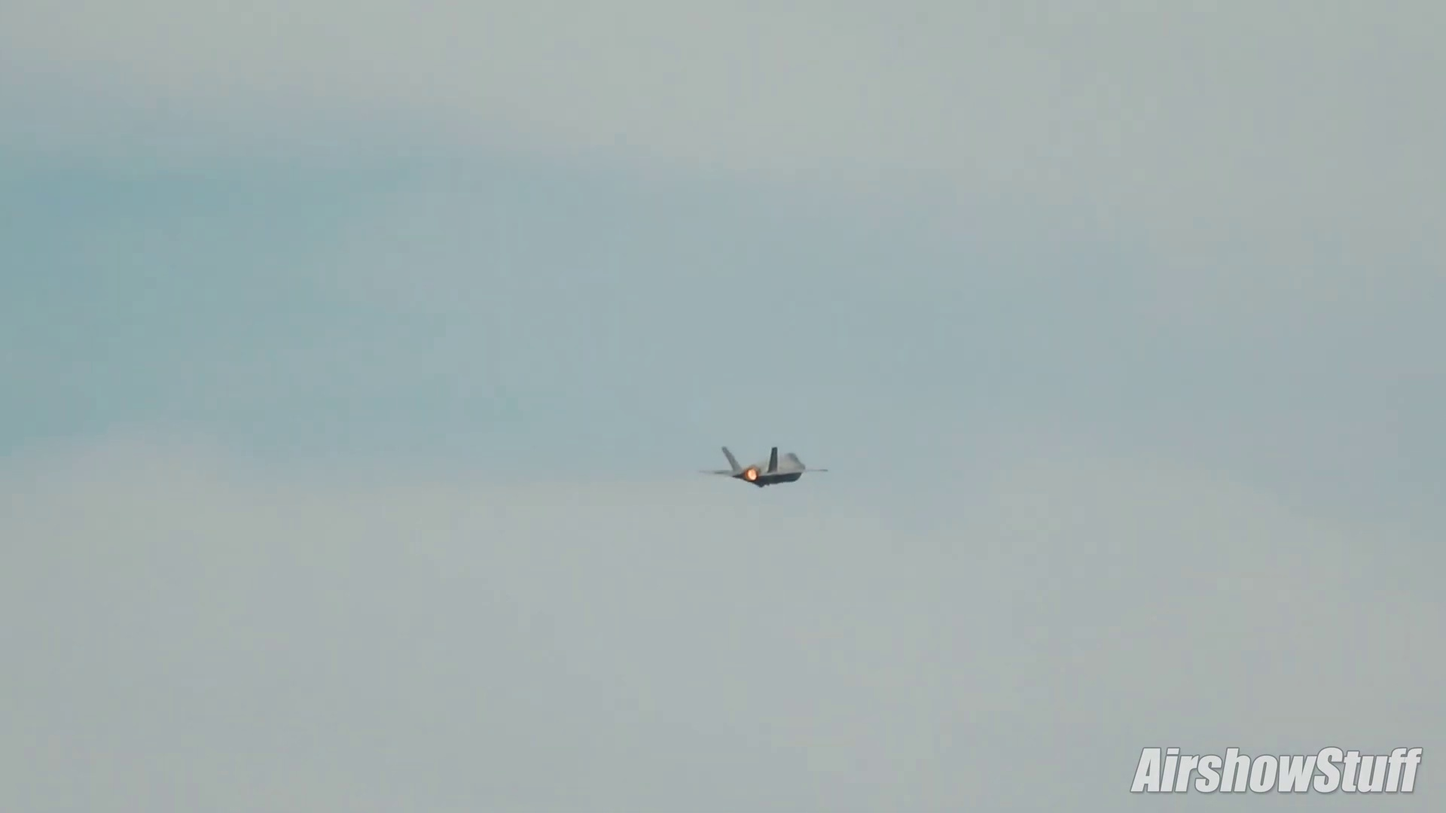F35: (706, 442, 836, 490)
